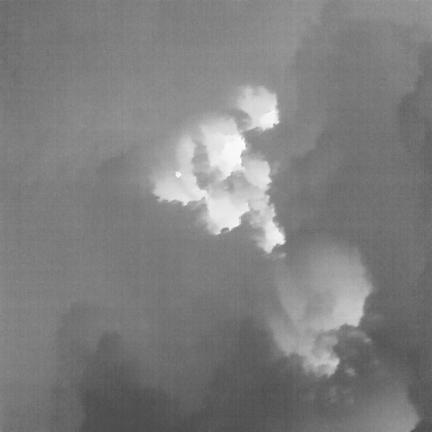flukeprints: (154, 135, 206, 203), (202, 124, 245, 176), (205, 188, 250, 232), (237, 86, 278, 130), (259, 199, 284, 251), (242, 153, 270, 191)
